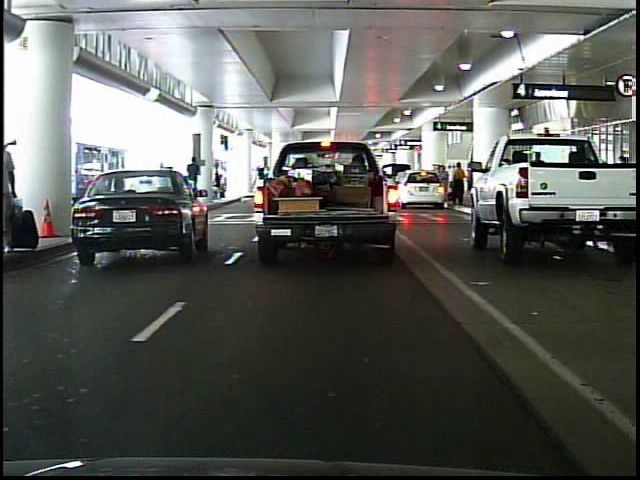person: (184, 154, 206, 210), (6, 130, 14, 250)
